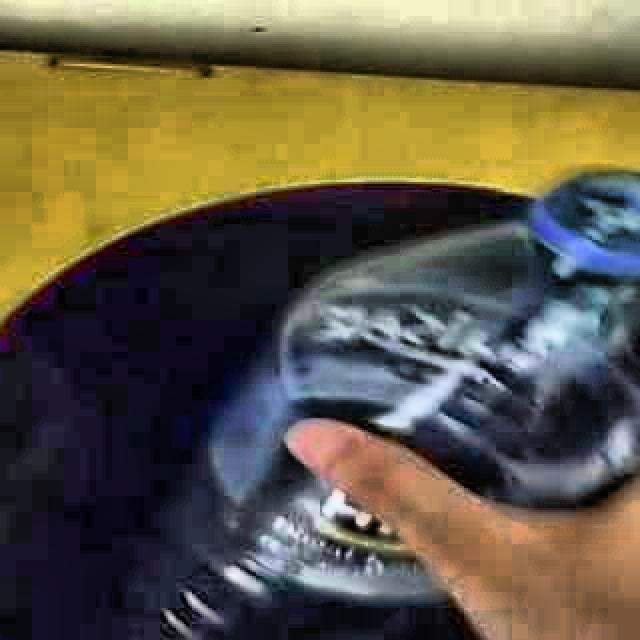plastic: (160, 169, 640, 640)
